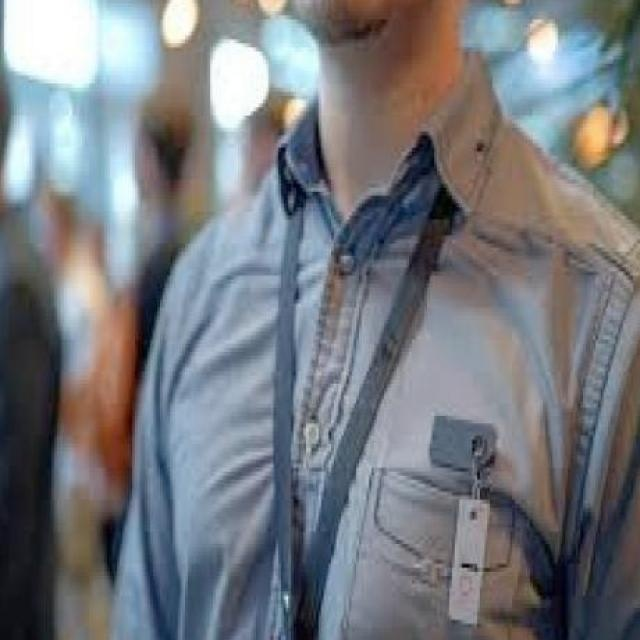ID_card: (255, 161, 470, 640)
